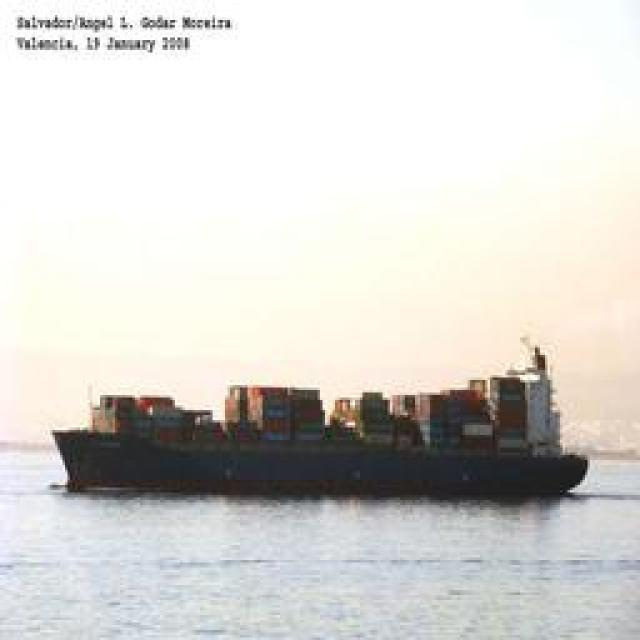ship2: (50, 334, 590, 505)
